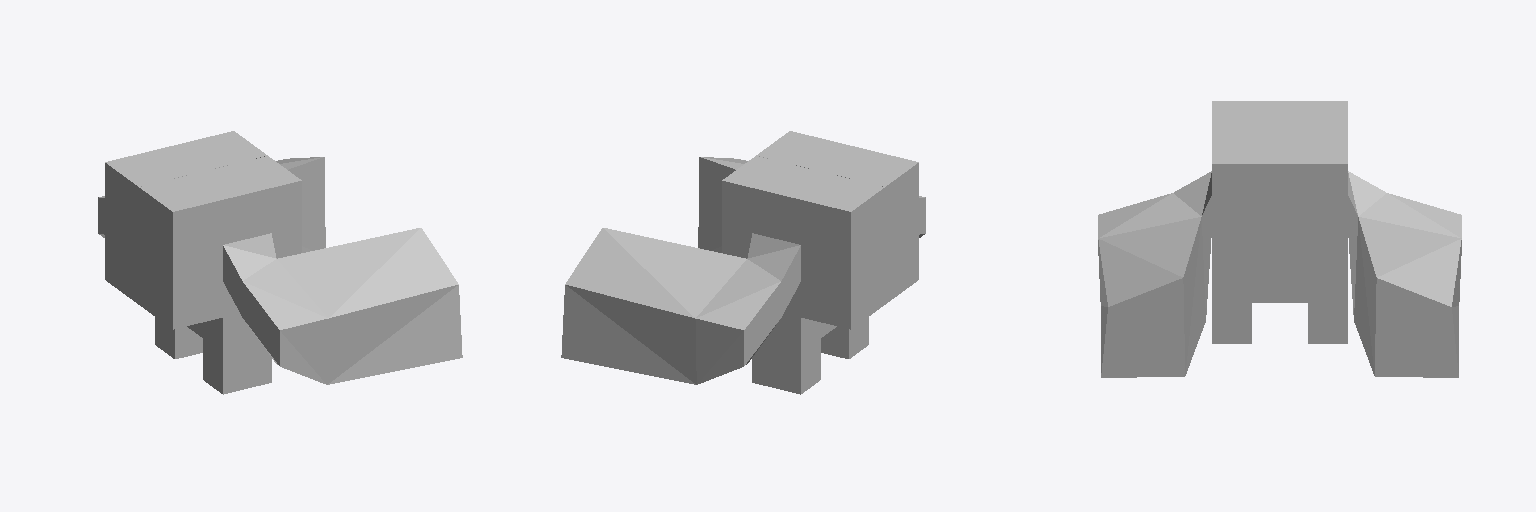
Rendered from mech-colid.obj.
3 views of the same model, side by side, from view 1: azimuth 30°, elevation 25°; view 2: azimuth 150°, elevation 25°; view 3: azimuth 270°, elevation 25° (orthographic).
Visible parts, largest first — view 1: Cube; view 2: Cube; view 3: Cube.
Boxes of the visible parts, box(x1,y1,x2,y2) form: Cube: box(98, 131, 462, 394); Cube: box(561, 131, 925, 394); Cube: box(1098, 101, 1461, 377).
Bounding box in the file's own units: 3.46 × 2.75 × 4.64.